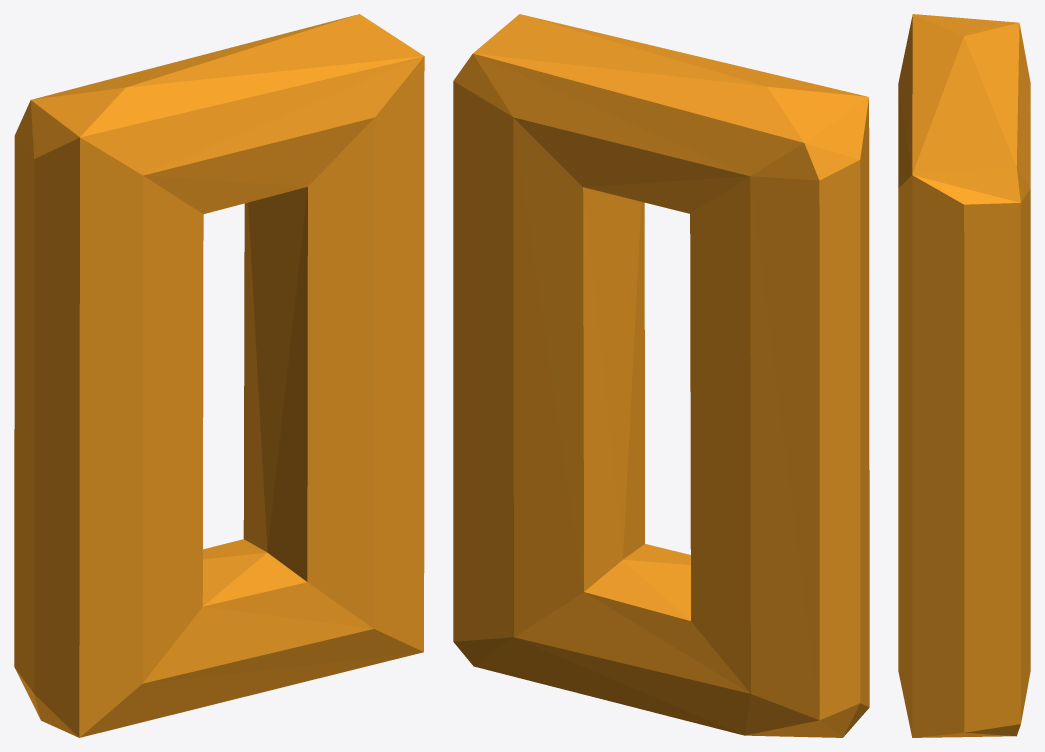
File: SM_Icon_Letter_O_01.fbx
3 views of the same model, side by side, from view 1: azimuth 30°, elevation 25°; view 2: azimuth 150°, elevation 25°; view 3: azimuth 270°, elevation 25° (orthographic). The views are drawn at different scales.
Parts seen in each view (by area): view 1: SM_Icon_Letter_O_01; view 2: SM_Icon_Letter_O_01; view 3: SM_Icon_Letter_O_01.
Boxes of the visible parts, x1=… form: SM_Icon_Letter_O_01: x1=14, y1=14, x2=424, y2=737; SM_Icon_Letter_O_01: x1=453, y1=14, x2=869, y2=737; SM_Icon_Letter_O_01: x1=898, y1=14, x2=1030, y2=737.
Bounding box in the file's own units: 35.68 × 55.36 × 11.38.
